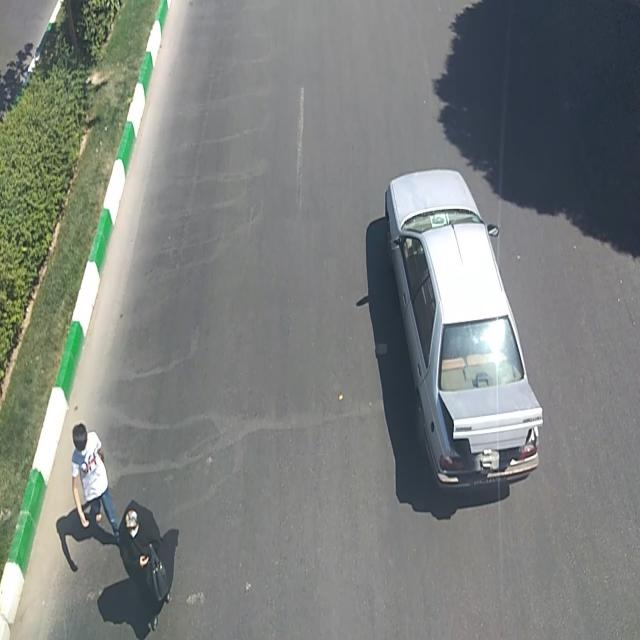car: (381, 170, 543, 490)
